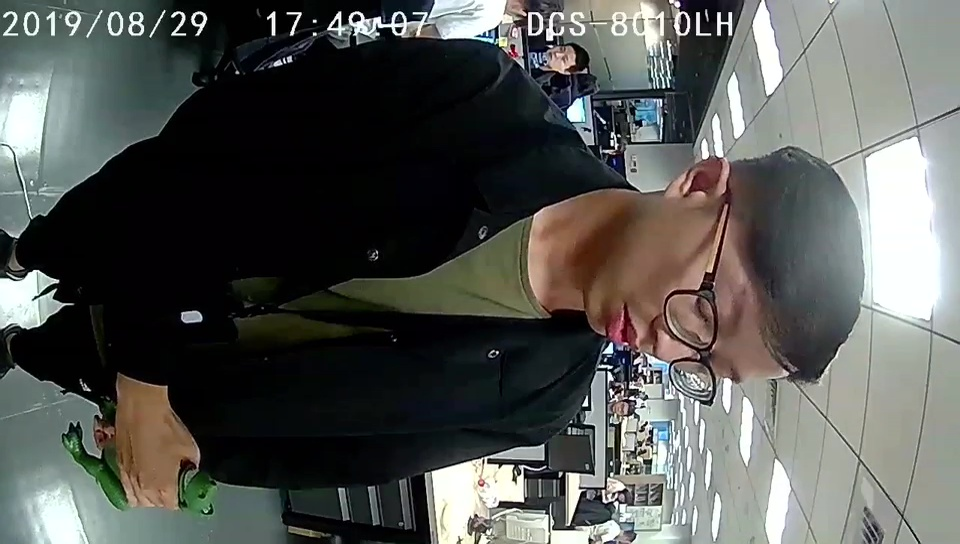rex: (62, 420, 218, 516)
